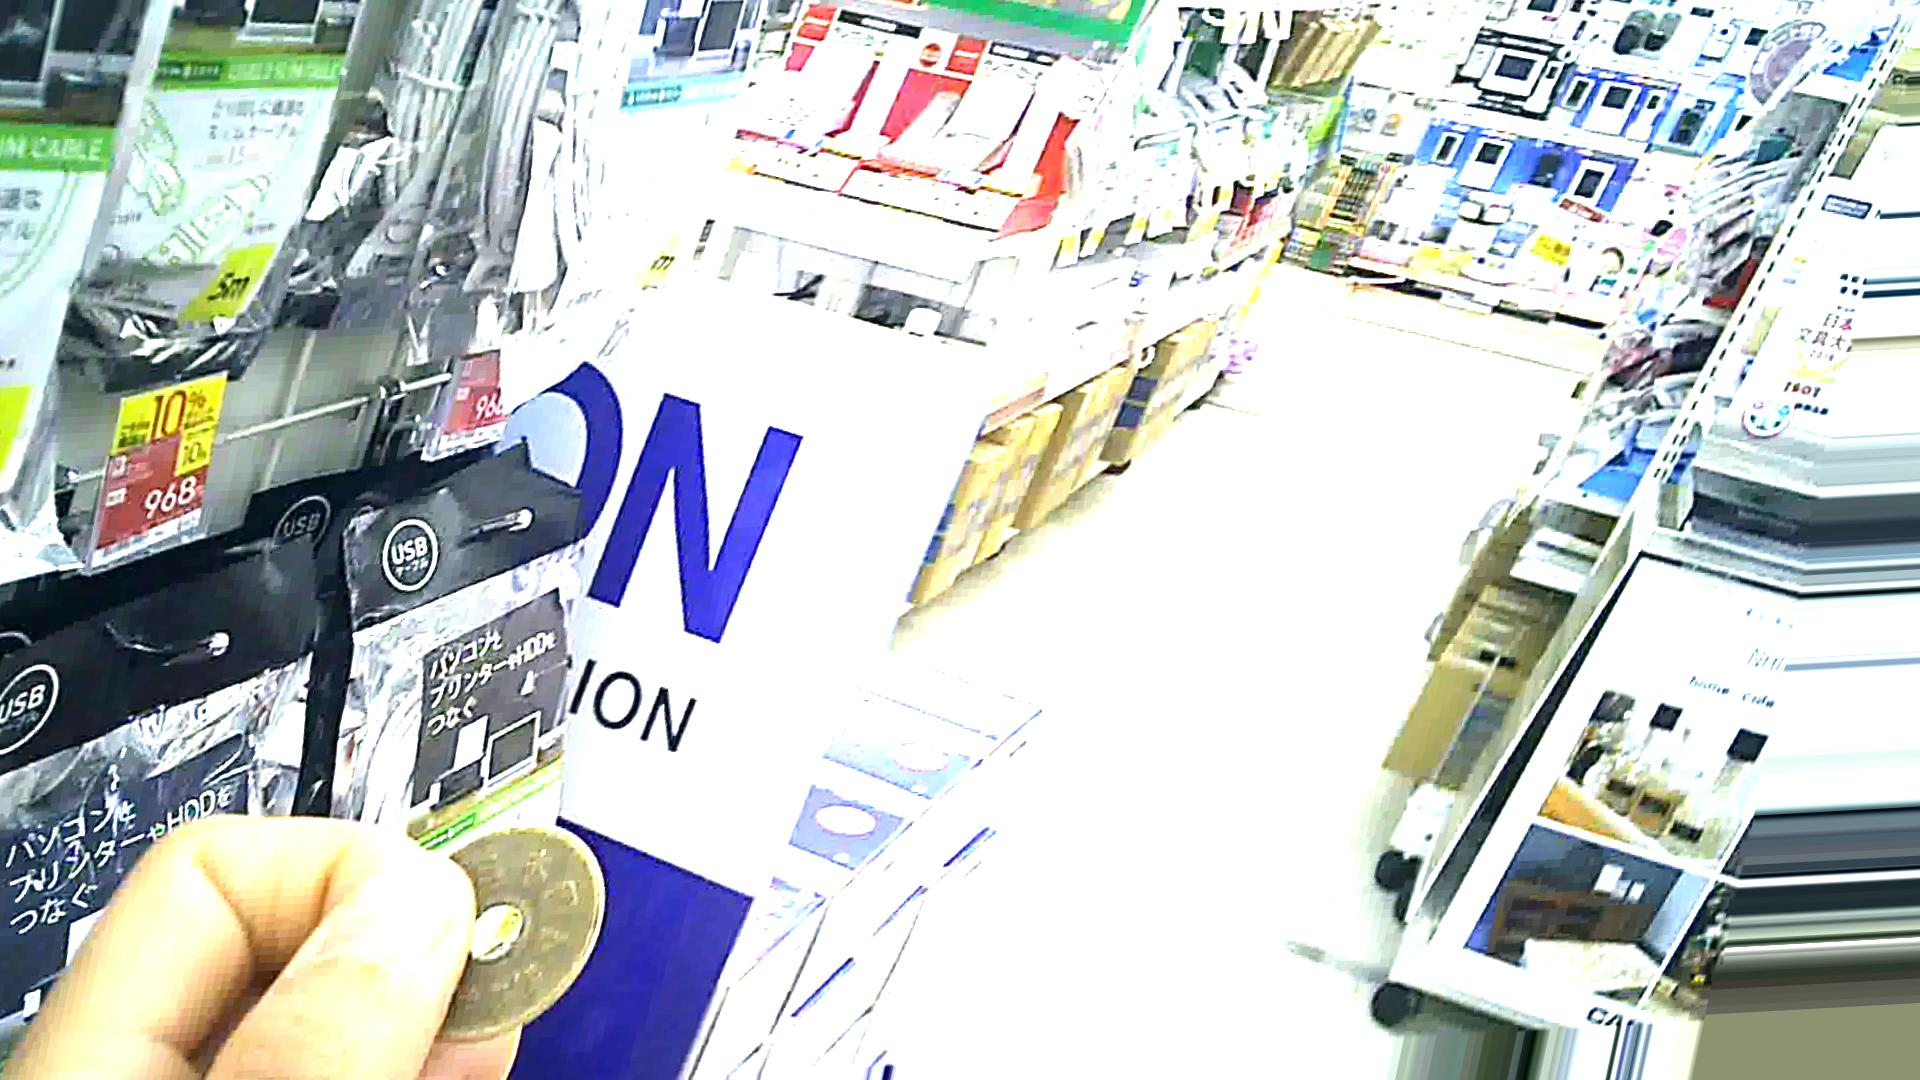5 Yen: (409, 822, 603, 1033)
